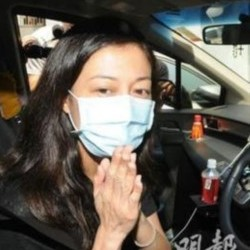mask: (63, 85, 156, 165)
